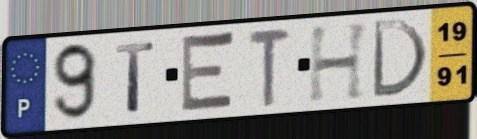9: (49, 40, 101, 124)
D: (369, 17, 431, 100)
E: (178, 29, 238, 116)
H: (306, 19, 373, 106)
T: (245, 27, 294, 110), (113, 39, 158, 115)
